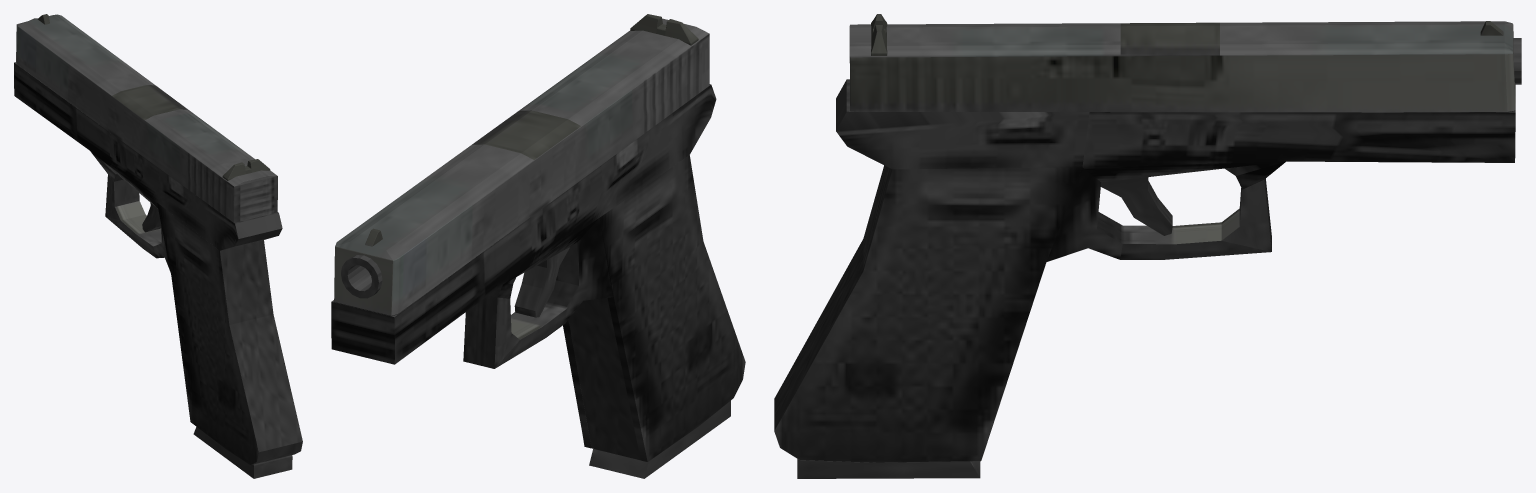
File: Jlock-71.fbx
The picture shows the model from 3 angles, left to right: view 1: azimuth 30°, elevation 25°; view 2: azimuth 150°, elevation 25°; view 3: azimuth 270°, elevation 25°; orthographic projection. The views are drawn at different scales.
Parts seen in each view (by area): view 1: Cylinder.004, Cube.004, Cube.002, Cylinder.002; view 2: Cylinder.004, Cube.004, Cube.002, Cylinder.002; view 3: Cylinder.004, Cube.004, Cube.002, Cylinder.002.
Boxes of the visible parts, box(x1,y1,x2,y2) form: Cylinder.004: box(14, 18, 302, 465); Cube.004: box(16, 14, 277, 222); Cube.002: box(193, 427, 292, 478); Cylinder.002: box(142, 203, 161, 232); Cylinder.004: box(331, 84, 745, 461); Cube.004: box(334, 14, 709, 316); Cube.002: box(589, 400, 730, 478); Cylinder.002: box(514, 247, 569, 317); Cylinder.004: box(774, 38, 1521, 462); Cube.004: box(849, 14, 1515, 112); Cube.002: box(797, 459, 980, 478); Cylinder.002: box(1101, 177, 1172, 235).
Size of the model in its own units: 0.00997 by 0.0926 by 0.0604.
